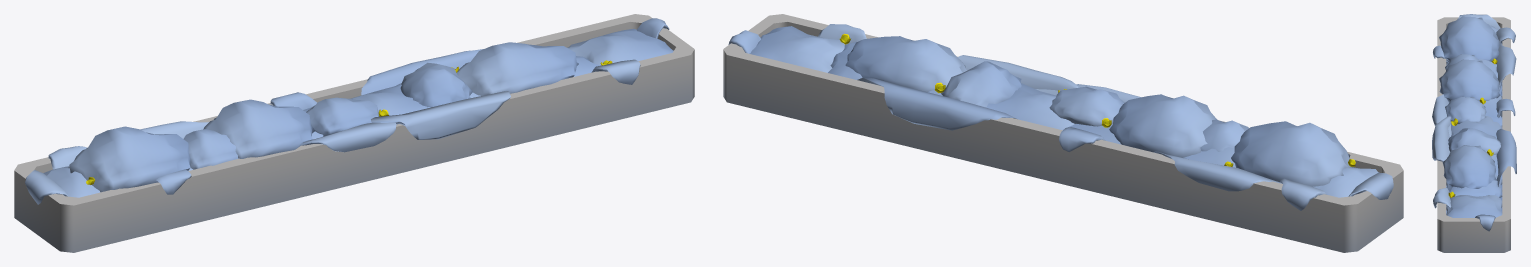
File: pitkaruusu.fbx
The picture shows the model from 3 angles, left to right: view 1: azimuth 30°, elevation 25°; view 2: azimuth 150°, elevation 25°; view 3: azimuth 270°, elevation 25°; orthographic projection. The views are drawn at different scales.
Visible parts, largest first — view 1: polySurface9; view 2: polySurface9; view 3: polySurface9.
Boxes of the visible parts, x1=… form: polySurface9: x1=14, y1=14, x2=694, y2=252; polySurface9: x1=723, y1=14, x2=1403, y2=252; polySurface9: x1=1432, y1=14, x2=1516, y2=252.
Size of the model in its own units: 95.88 by 12.37 by 16.56.
